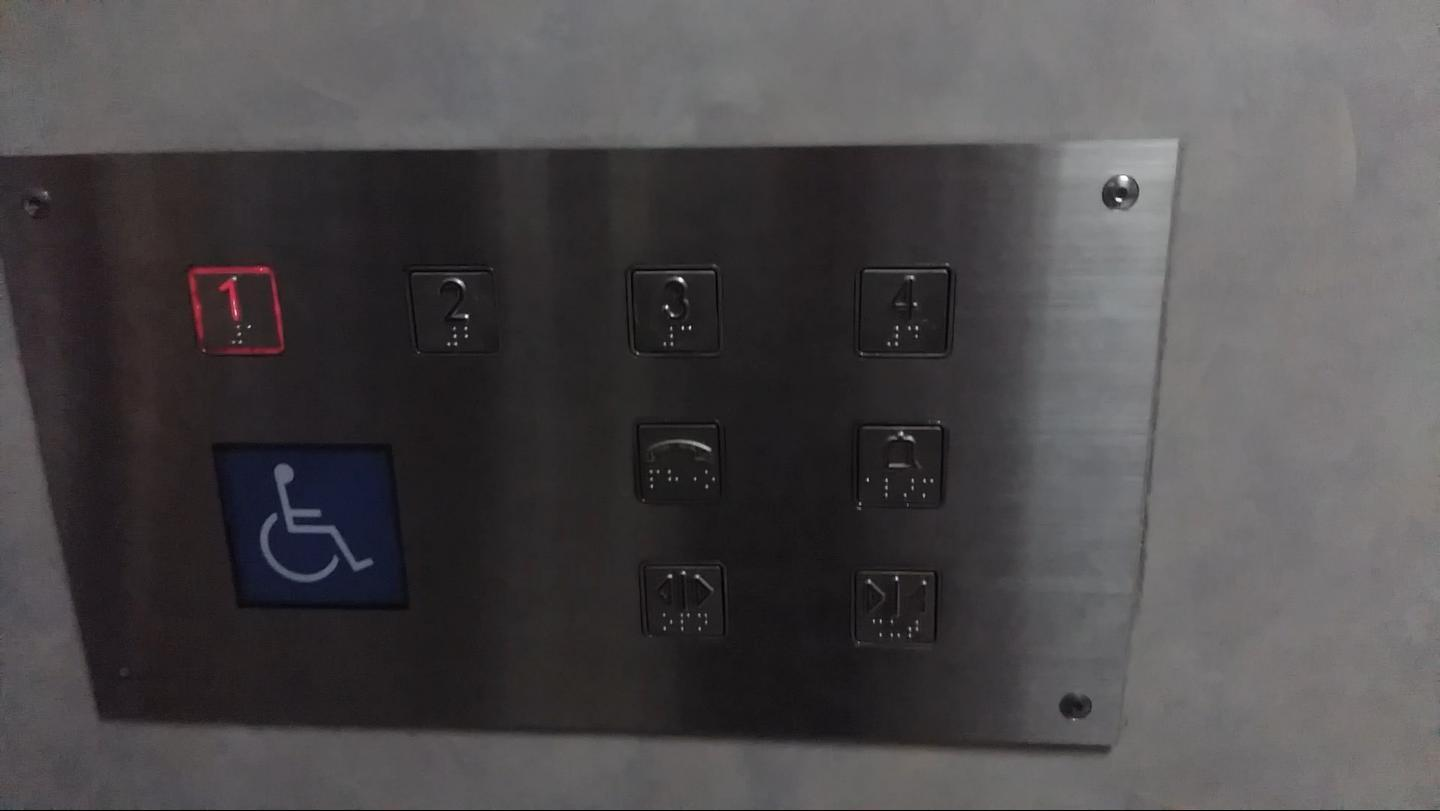1: (184, 262, 284, 355)
2: (402, 262, 499, 355)
3: (625, 263, 721, 357)
4: (852, 262, 954, 356)
alarm: (847, 420, 947, 509)
call: (625, 416, 728, 506)
close: (847, 562, 940, 645)
open: (635, 556, 727, 638)
unknown: (211, 439, 411, 610)
